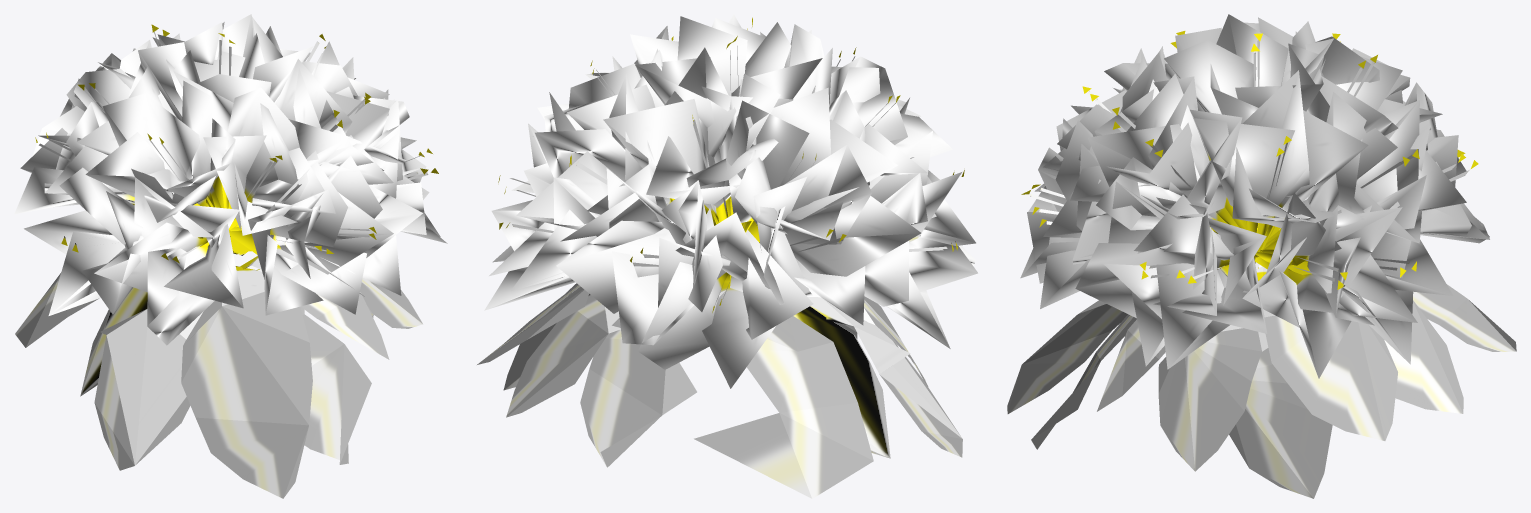
Rendered from LowPolyRhododendron.fbx.
3 renders of one model, left to right at view 1: azimuth 30°, elevation 25°; view 2: azimuth 150°, elevation 25°; view 3: azimuth 270°, elevation 25°, orthographic. The views are drawn at different scales.
Parts seen in each view (by area): view 1: Cylinder.019; view 2: Cylinder.019; view 3: Cylinder.019.
Boxes of the visible parts, left/top/right/bottom form: Cylinder.019: left=14, top=14, right=447, bottom=498; Cylinder.019: left=477, top=14, right=977, bottom=498; Cylinder.019: left=1007, top=14, right=1516, bottom=498.
Size of the model in its own units: 6.22 by 6.65 by 5.89.
Materials: 3 (3 with a texture image).
